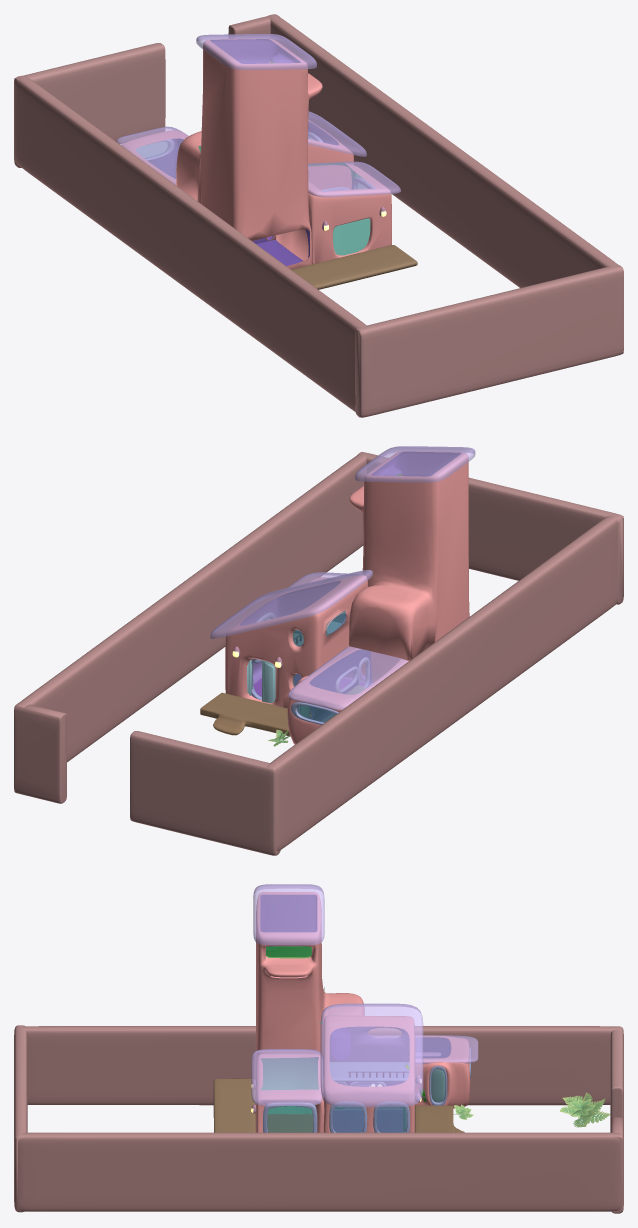
File: nuevo_casachiri2.glb
3 views of the same model, one above another, from view 1: azimuth 30°, elevation 25°; view 2: azimuth 150°, elevation 25°; view 3: azimuth 270°, elevation 25° (orthographic). The views are drawn at different scales.
Parts seen in each view (by area): view 1: pared_exterior_1, pared_exterior_2, pared_exterior_3, TORRE casa exterior, pared_exterior_4, invernadero exterior, TECHO casa 4.001, piso atras, TECHO casa 2.001, TORRE casa_interior, TECHO cocina 2, casa_salon (+5 smaller); view 2: pared_exterior_1, pared_exterior_2, TORRE casa exterior, pared_exterior_4, pared_exterior_3, casa_salon, pared_exterior_5, TECHO casa 1.001, TECHO cocina 2, TECHO casa 4.001, piso frente, cocina textura exterior (+6 smaller); view 3: pared_exterior_2, pared_exterior_1, TECHO casa 1.001, TORRE casa exterior, TECHO casa 4.001, TECHO casa 2.001, casa_salon, casa_salon_interior.004, invernadero_interior, TORRE casa_interior, cocina textura exterior, piso atras (+14 smaller).
Boxes of the visible parts, left/top/right/bottom form: pared_exterior_1: left=14, top=75, right=366, bottom=411; pared_exterior_2: left=267, top=14, right=617, bottom=287; pared_exterior_3: left=355, top=264, right=623, bottom=417; TORRE casa exterior: left=176, top=39, right=322, bottom=269; pared_exterior_4: left=14, top=43, right=165, bottom=167; invernadero exterior: left=276, top=163, right=391, bottom=264; TECHO casa 4.001: left=196, top=34, right=316, bottom=70; piso atras: left=291, top=245, right=417, bottom=289; TECHO casa 2.001: left=308, top=161, right=400, bottom=197; TORRE casa_interior: left=210, top=39, right=309, bottom=266; TECHO cocina 2: left=116, top=126, right=188, bottom=184; casa_salon: left=265, top=120, right=353, bottom=240; pared_exterior_1: left=267, top=515, right=617, bottom=851; pared_exterior_2: left=16, top=454, right=366, bottom=762; TORRE casa exterior: left=349, top=451, right=469, bottom=682; pared_exterior_4: left=130, top=731, right=280, bottom=855; pared_exterior_3: left=357, top=452, right=623, bottom=604; casa_salon: left=225, top=575, right=367, bottom=713; pared_exterior_5: left=14, top=703, right=66, bottom=803; TECHO casa 1.001: left=210, top=570, right=372, bottom=638; TECHO cocina 2: left=288, top=646, right=408, bottom=709; TECHO casa 4.001: left=355, top=446, right=475, bottom=482; piso frente: left=200, top=692, right=311, bottom=736; cocina textura exterior: left=287, top=648, right=409, bottom=744; pared_exterior_2: left=18, top=1132, right=621, bottom=1211; pared_exterior_1: left=21, top=1026, right=621, bottom=1105; TECHO casa 1.001: left=320, top=1003, right=423, bottom=1107; TORRE casa exterior: left=255, top=892, right=364, bottom=1061; TECHO casa 4.001: left=253, top=884, right=324, bottom=945; TECHO casa 2.001: left=251, top=1049, right=322, bottom=1105; casa_salon: left=323, top=1016, right=414, bottom=1132; casa_salon_interior.004: left=330, top=1027, right=409, bottom=1132; invernadero_interior: left=261, top=1057, right=318, bottom=1132; TORRE casa_interior: left=260, top=895, right=350, bottom=1059; cocina textura exterior: left=415, top=1036, right=470, bottom=1108; piso atras: left=213, top=1078, right=255, bottom=1132.
Size of what is drawn, in the model's own units: 33.69 by 31.83 by 77.33.
5 materials, 5 textured.
